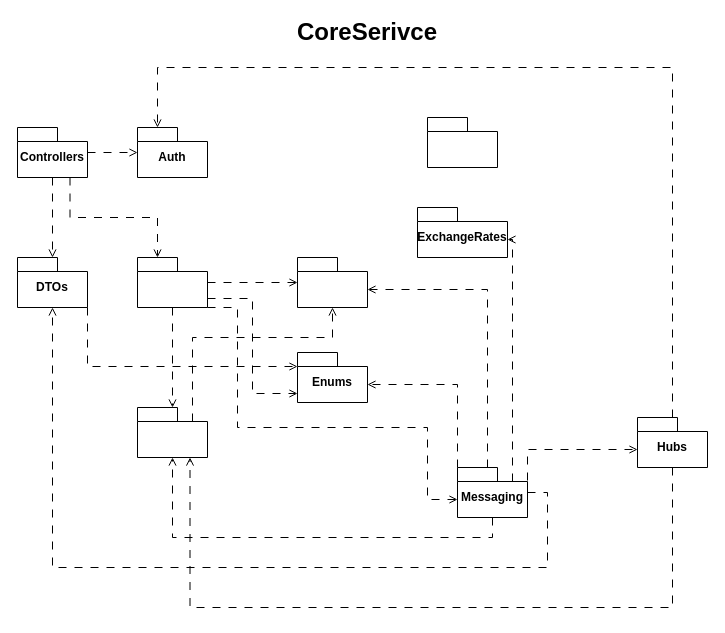
Image size: 725x633. Some labels were removed from this diagram. Each missing label, with the centre of its shape:
"Data" goes at (172,432).
"Features" goes at (172,282).
"Middleware" goes at (462,142).
"Models" goes at (332,282).
